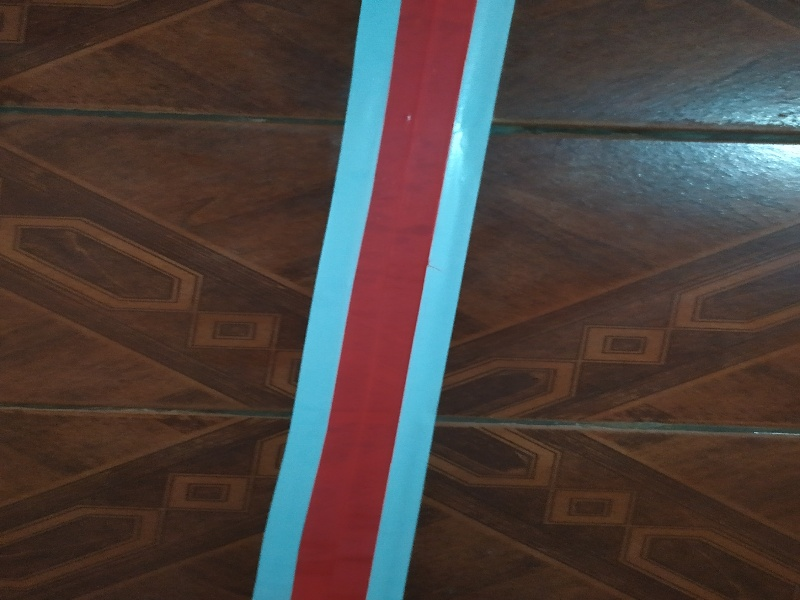reta: (329, 8, 424, 600)
